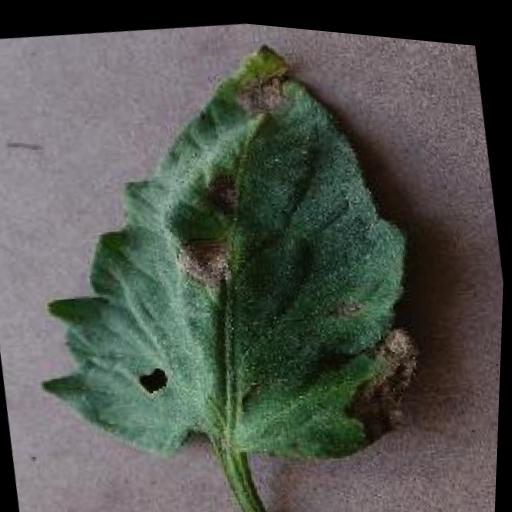Early Blight: (0, 0, 457, 505)
